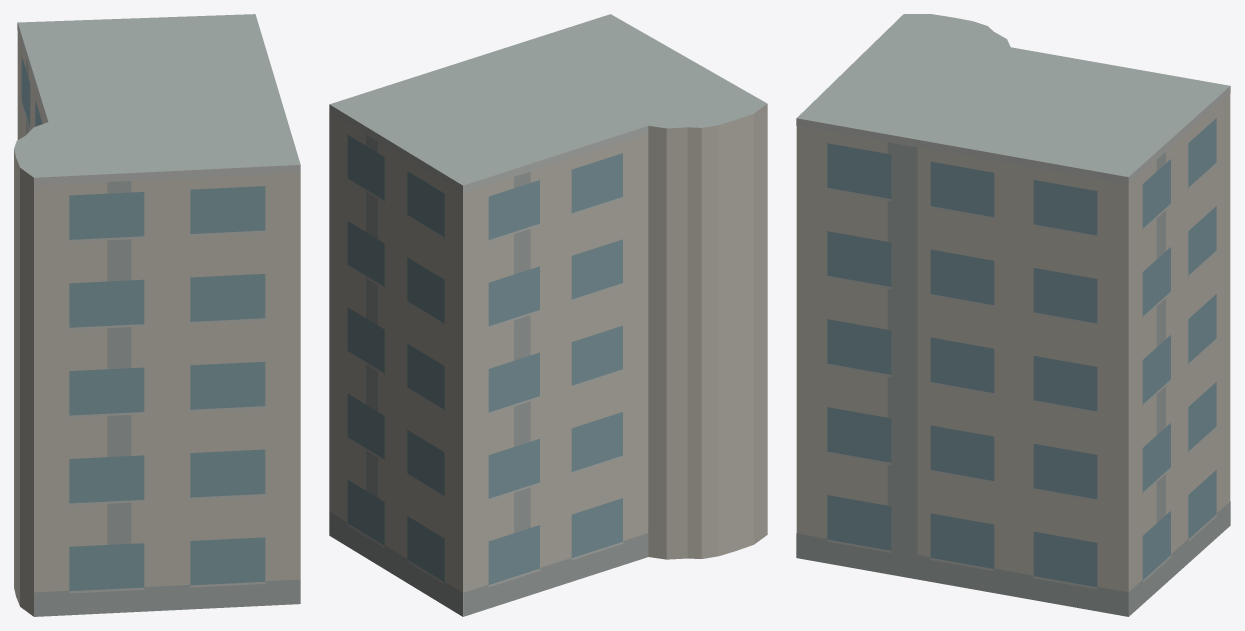
Rendered from survey-upis-32728736.glb.
The picture shows the model from 3 angles, left to right: view 1: azimuth 30°, elevation 25°; view 2: azimuth 150°, elevation 25°; view 3: azimuth 270°, elevation 25°; orthographic projection.
Visible parts, largest first — view 1: survey-upis-32728736.tmp; view 2: survey-upis-32728736.tmp; view 3: survey-upis-32728736.tmp.
Part boxes in pixels (x1,y1,x2,y2): survey-upis-32728736.tmp: [14, 14, 300, 616]; survey-upis-32728736.tmp: [329, 14, 767, 616]; survey-upis-32728736.tmp: [796, 14, 1230, 616].
Bounding box in the file's own units: 10.91 × 13.7 × 12.26.
